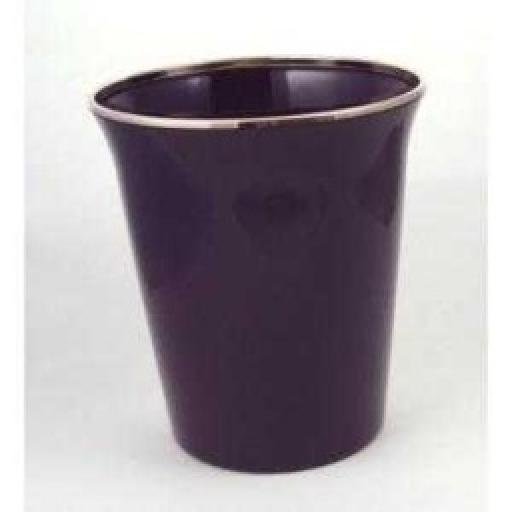trash-can: (86, 0, 438, 487)
